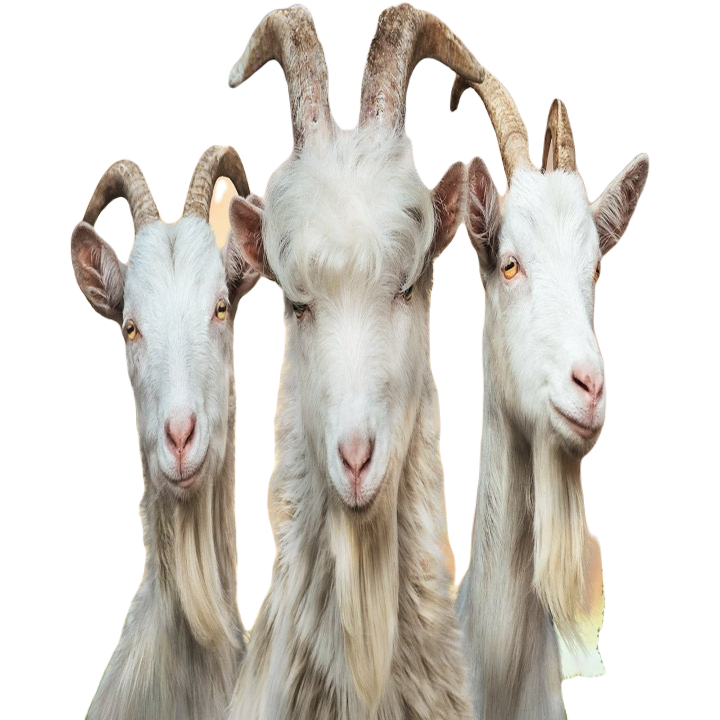Goat: (66, 144, 265, 719)
